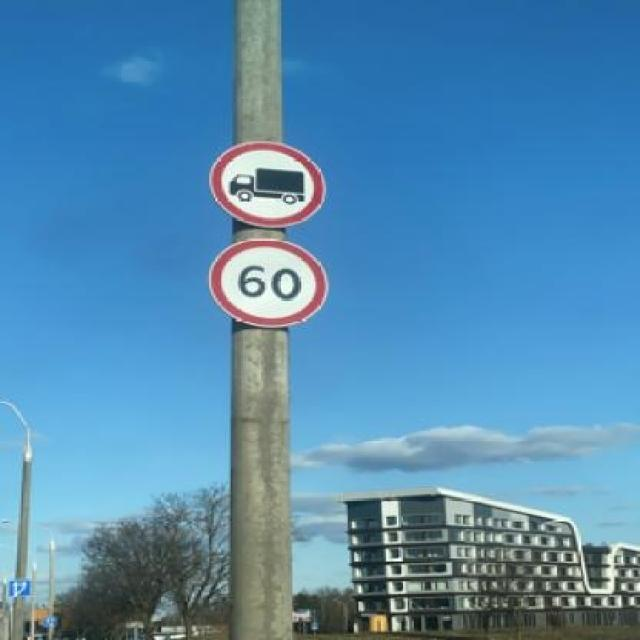forb_speed_over_60: (212, 238, 329, 329)
